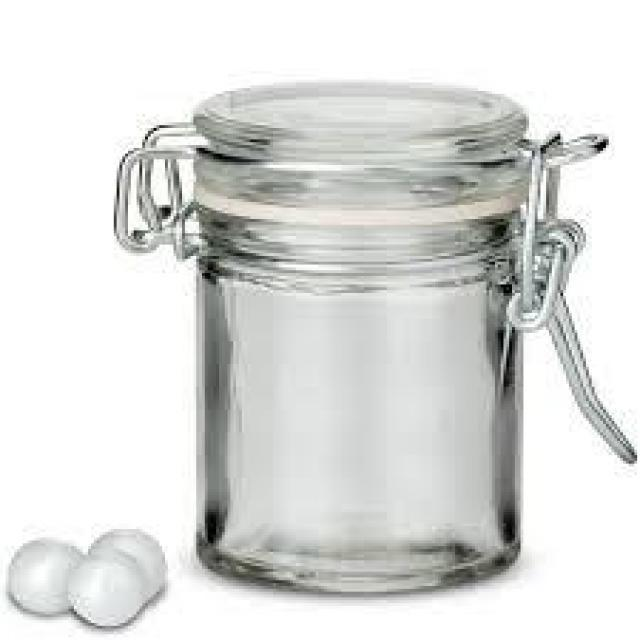glass: (105, 72, 640, 598)
